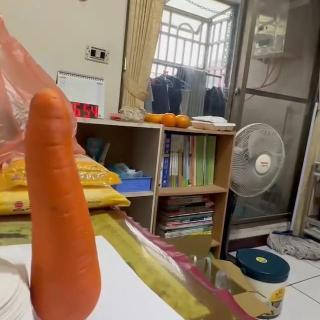carrot: (26, 89, 102, 320)
